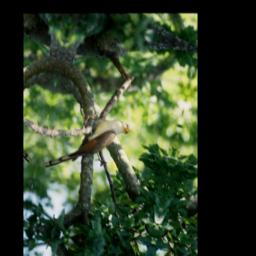Cuckoo: (42, 101, 134, 191)
